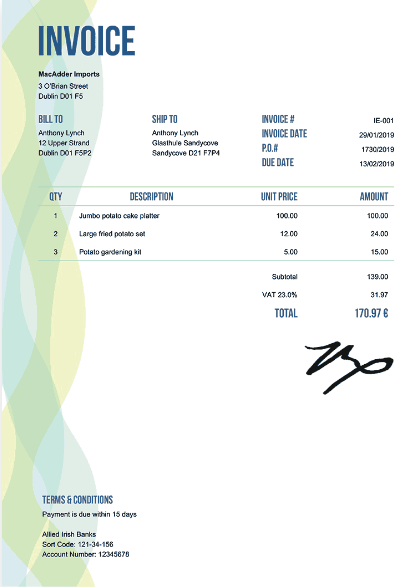Table: (26, 176, 399, 327)
